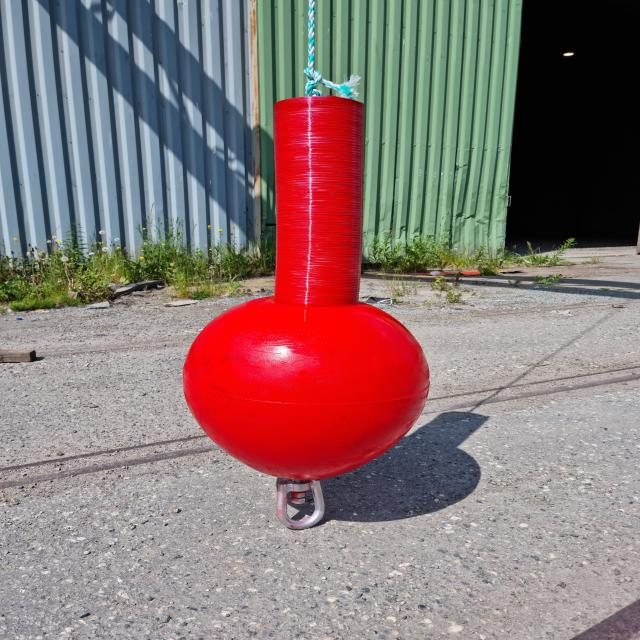red: (184, 96, 431, 482)
